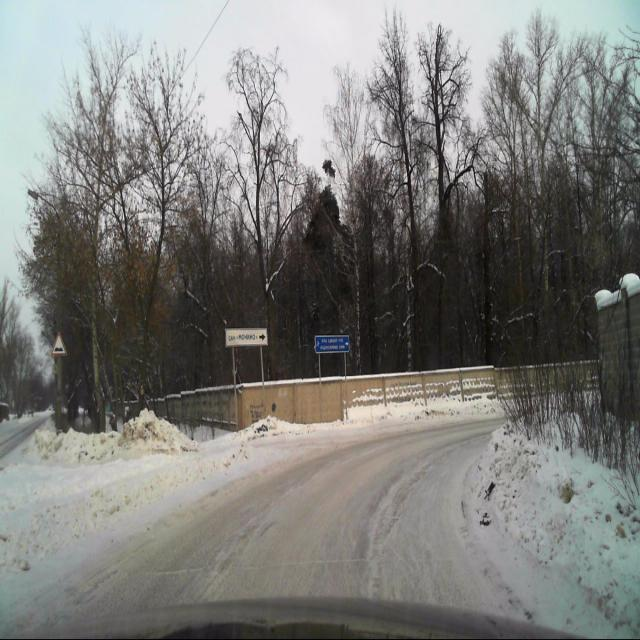road sign: (51, 331, 68, 358)
